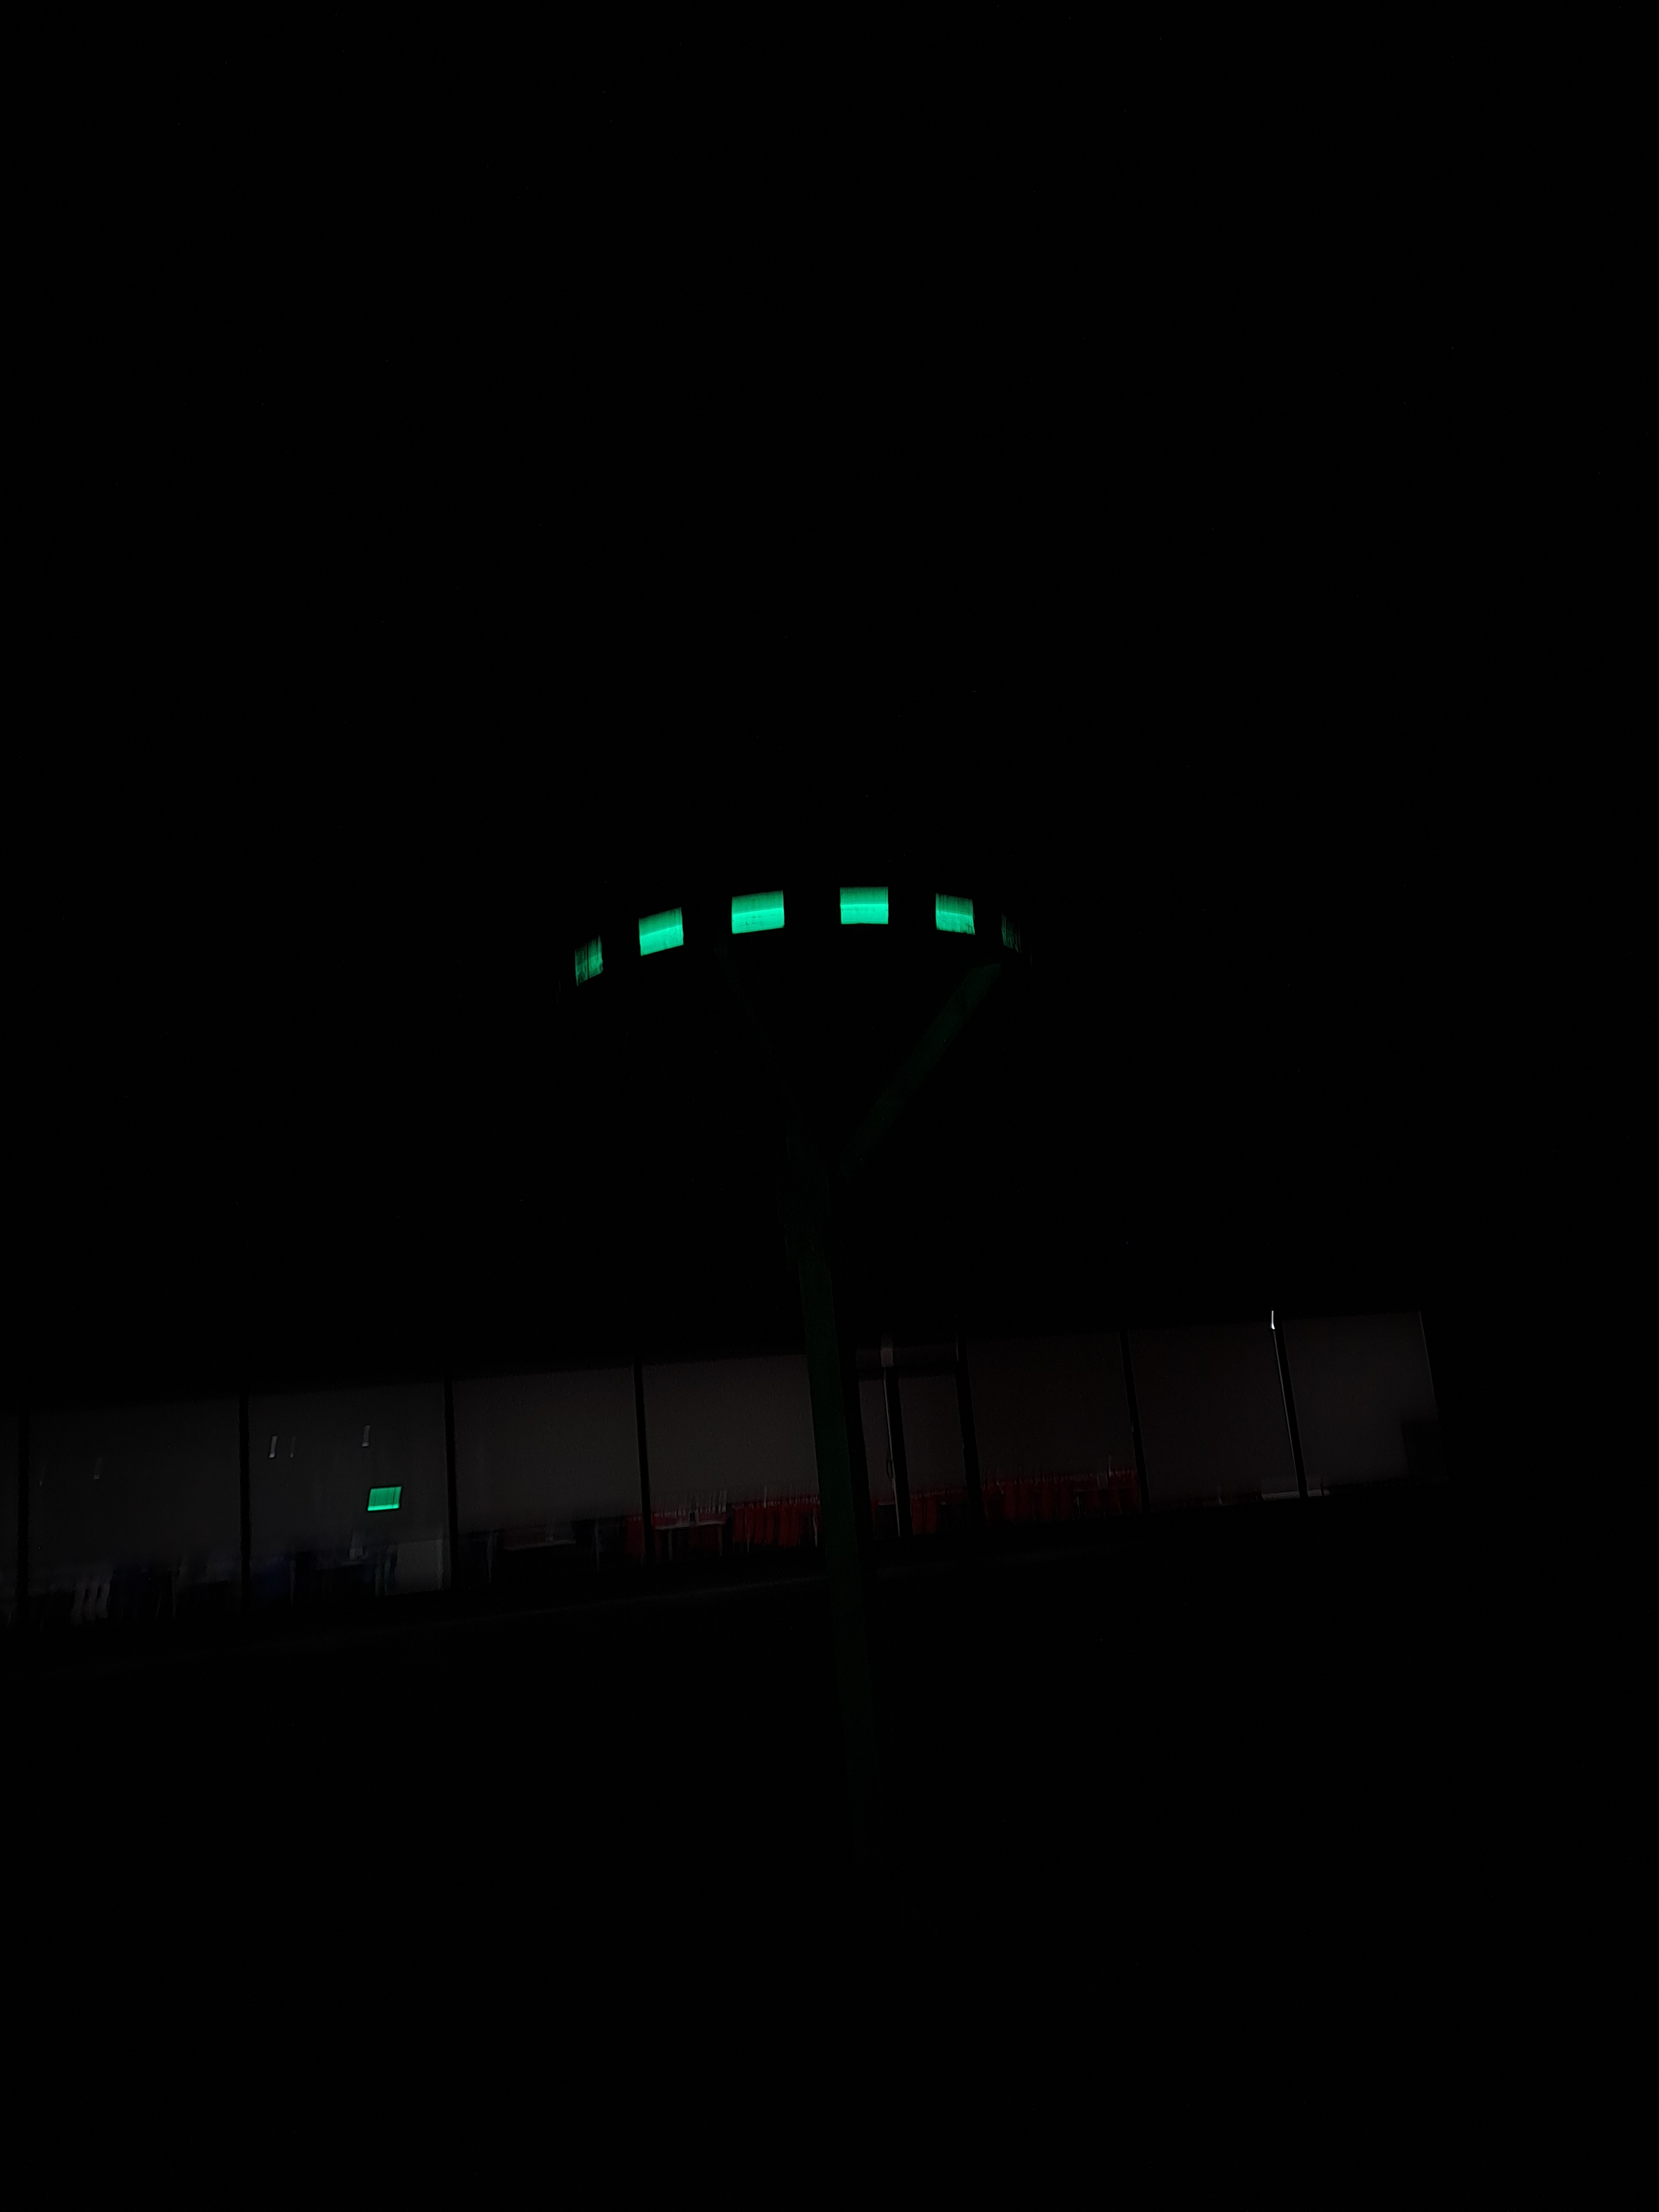hoop: (570, 894, 1028, 991)
